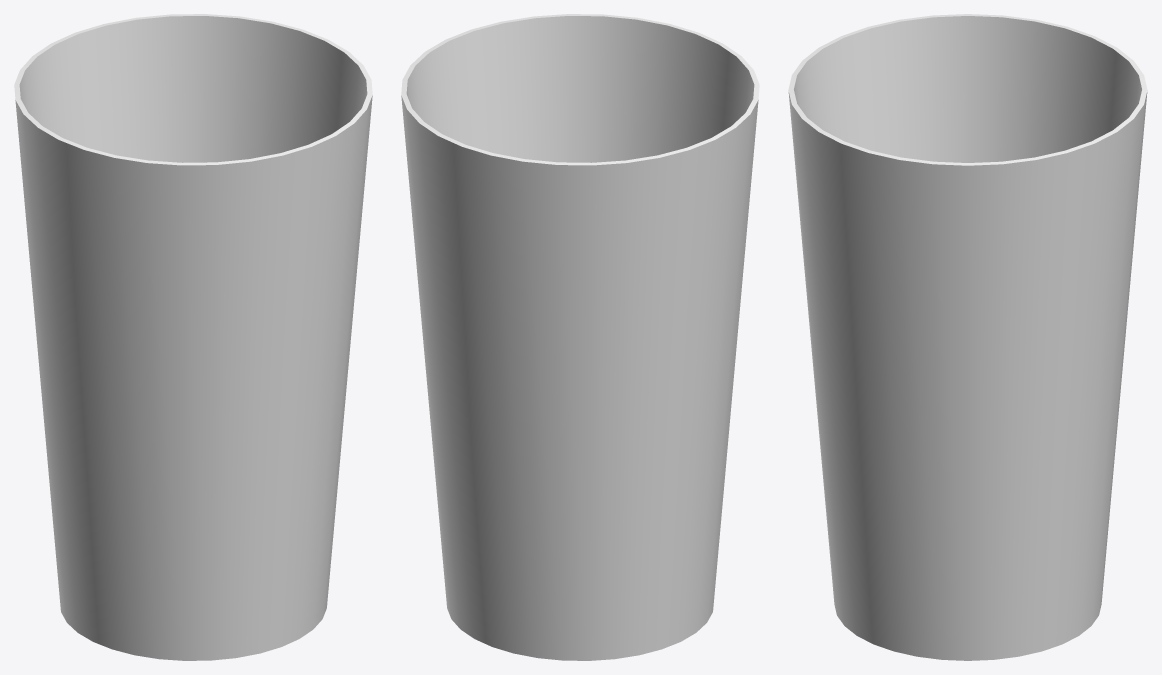
The model's file is glassAtlas.fbx.
3 renders of one model, left to right at view 1: azimuth 30°, elevation 25°; view 2: azimuth 150°, elevation 25°; view 3: azimuth 270°, elevation 25°, orthographic.
Parts seen in each view (by area): view 1: glass; view 2: glass; view 3: glass.
Boxes of the visible parts, x1,y1,x2,y2 form: glass: (14, 14, 372, 660); glass: (401, 14, 759, 660); glass: (788, 14, 1147, 660).
Size of the model in its own units: 47.97 by 75.91 by 47.97.
